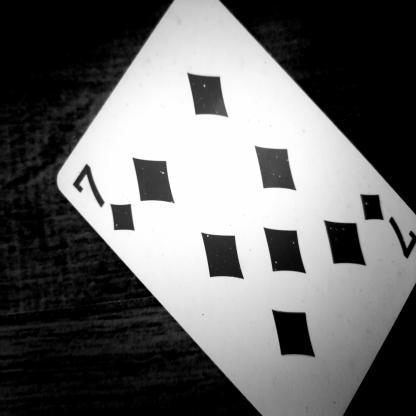7D: (62, 161, 146, 245), (345, 179, 416, 262)
